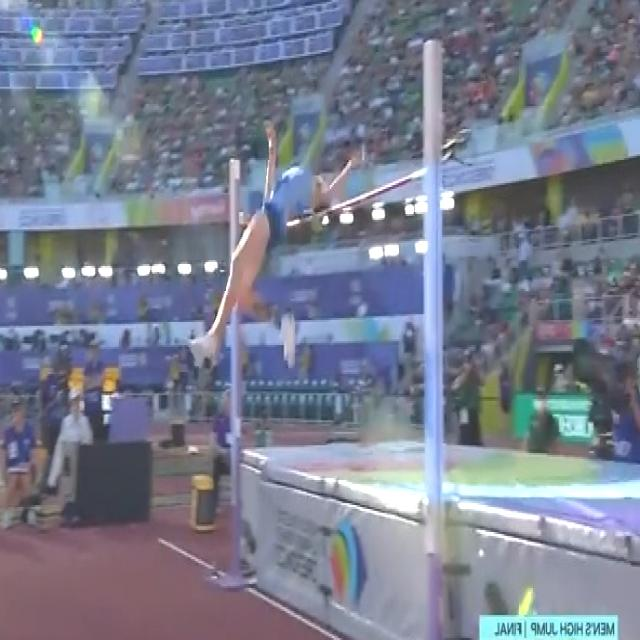jump: (187, 120, 362, 367)
